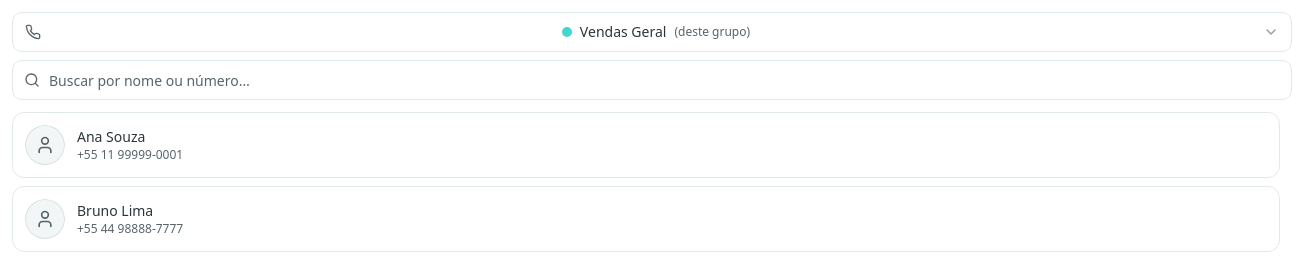
Scenario: ContactSelectList › troca o escopo para outra linha — a ponte entre números
Expected: the text "Ana Souza" is shown, [77,127,145,146]
Step 1. Click the dropdown → (652, 32), box [12,12,1292,52]
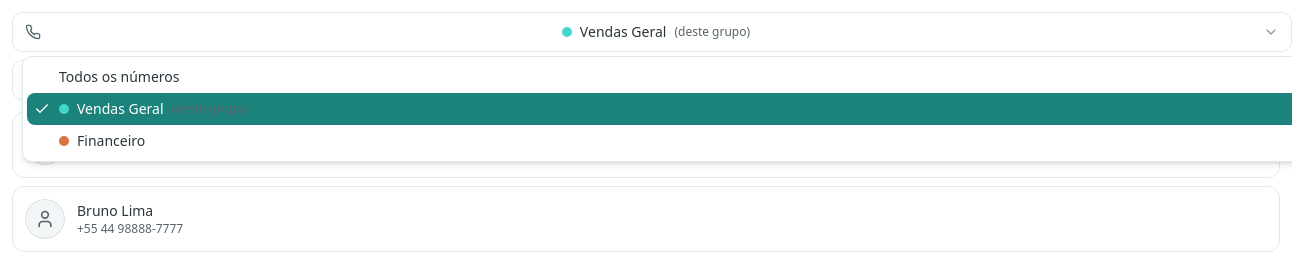
Step 2. Click the option "Financeiro" → (102, 140), box [59,131,145,150]
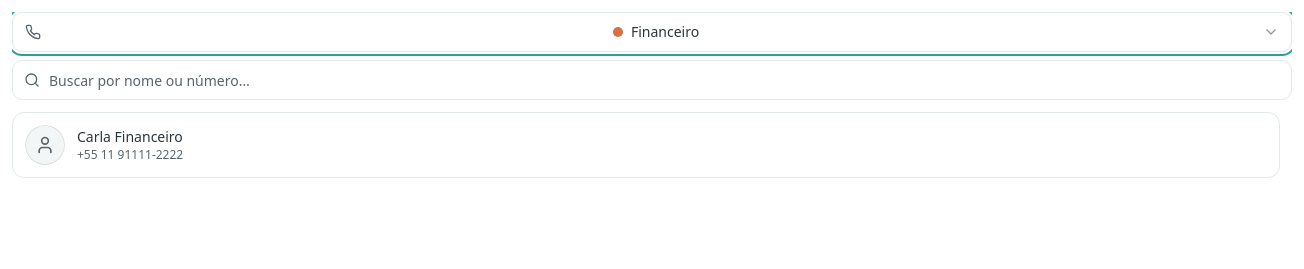
Expected: the text "Carla Financeiro" is shown, [77,127,183,146]
